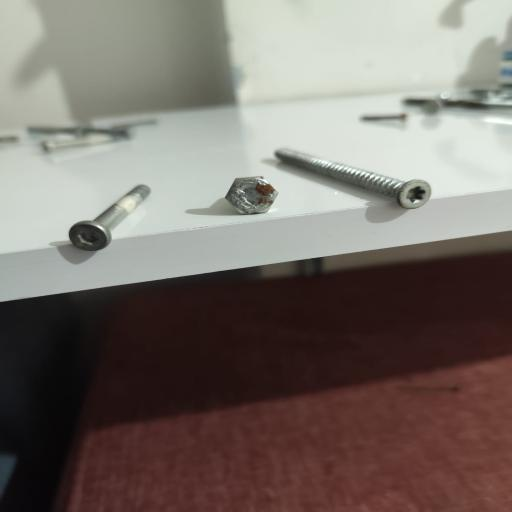Hex-Allen: (224, 170, 284, 219), (70, 218, 112, 252)
Torx: (396, 178, 436, 209)
